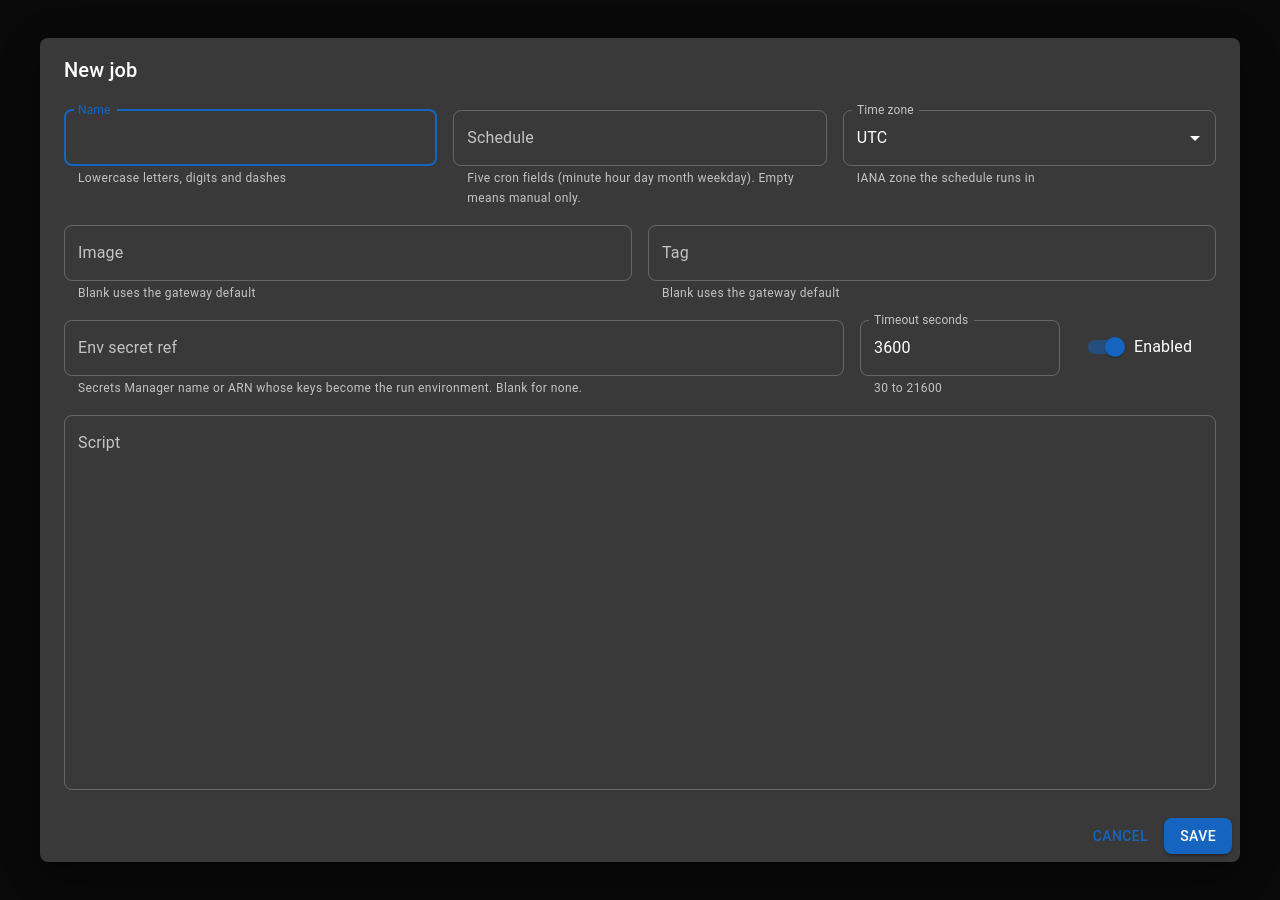
Scenario: JobFormDialog create › validates the name, the timeout and the required script
Type "Bad_Name" into the field labelled "Name" at (251, 138), box [64,110,437,166]
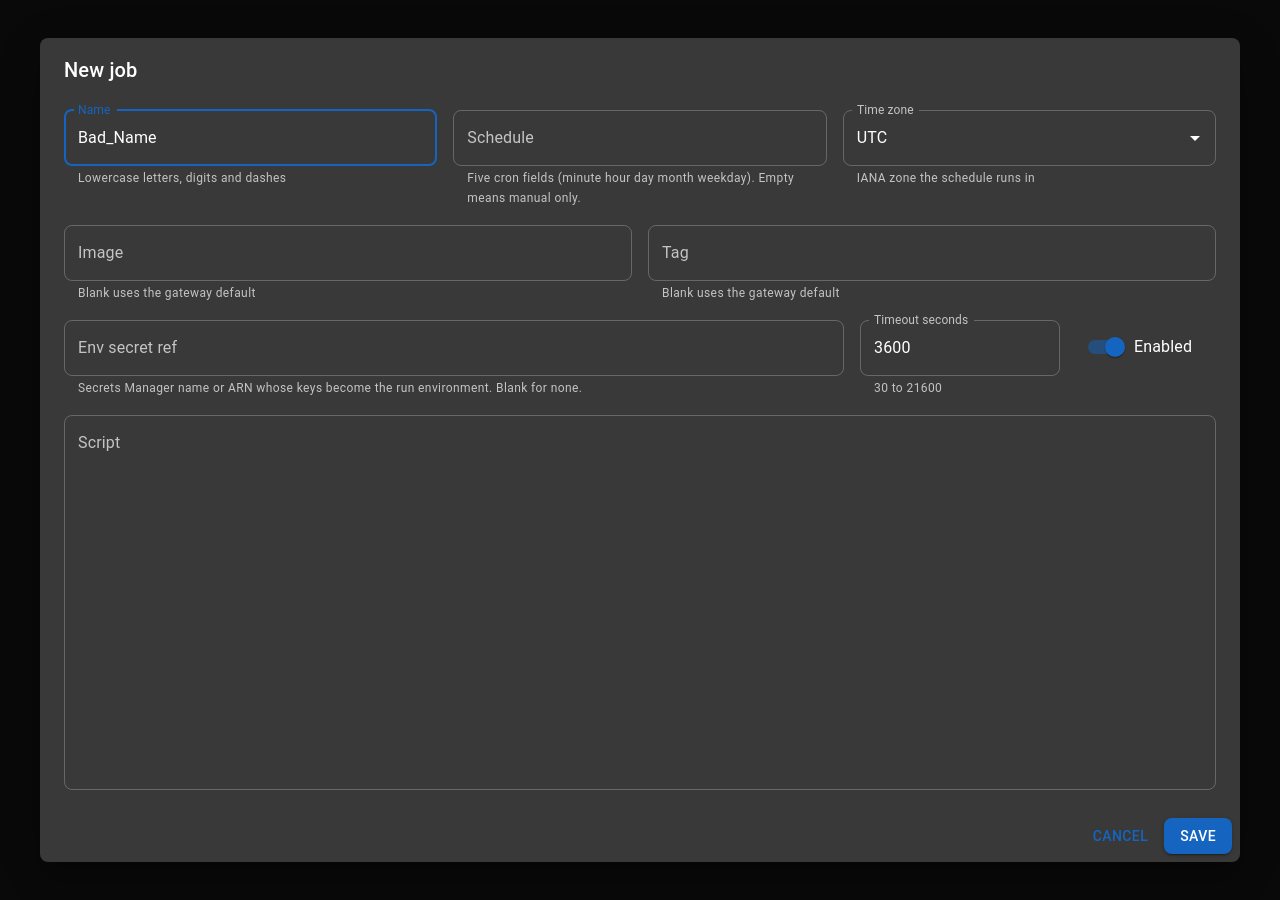
Replace the text in the number field labelled "Timeout seconds" with "10" at (960, 348), box [860,320,1060,376]
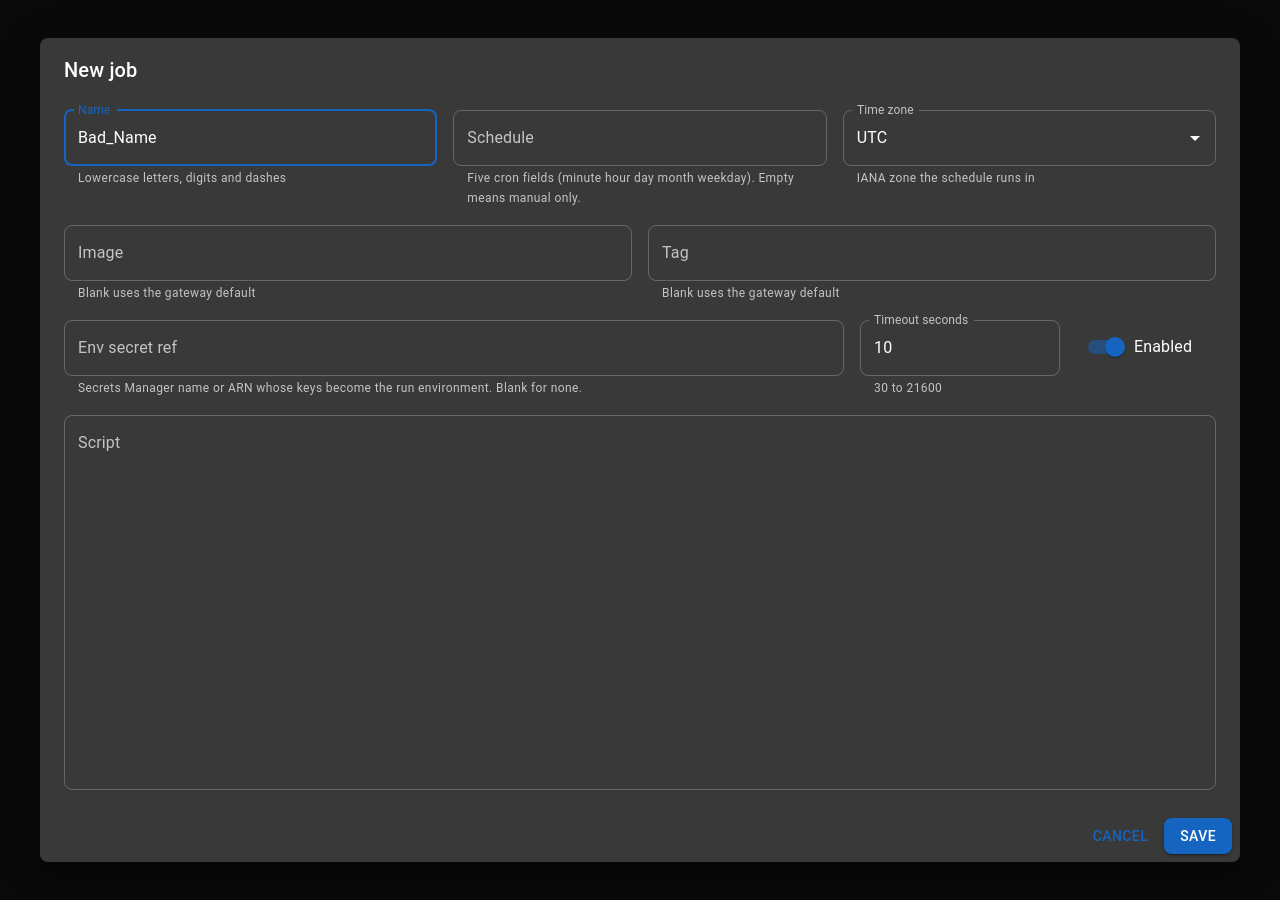
Click the button "Save" at (1198, 836), box [1164,818,1232,854]
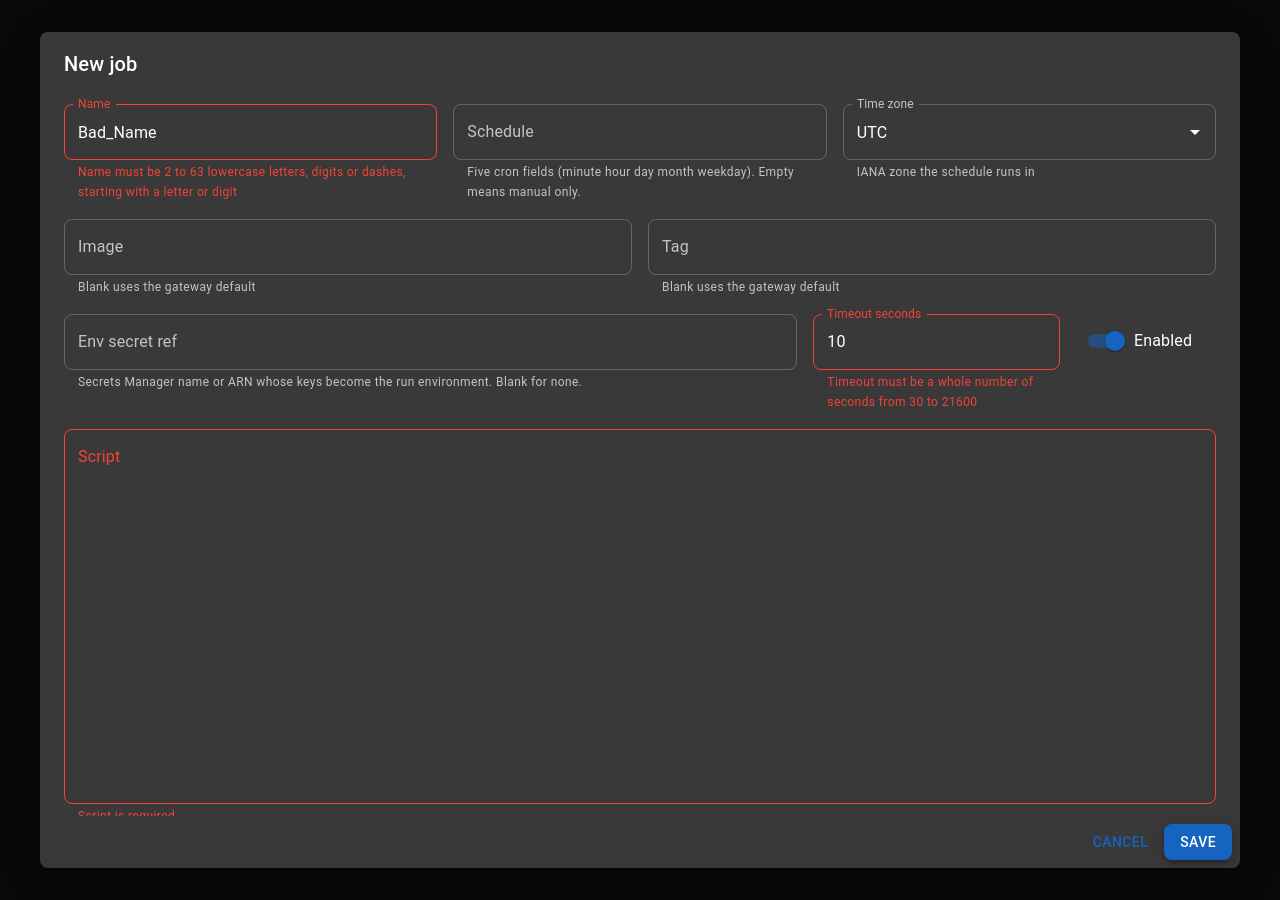
expect the text "Name must be 2 to 63 lowercase" is shown: met, box [78,165,406,199]
expect the text "Timeout must be a whole number of seconds from 30 to 21600" is shown: met, box [827,373,1046,412]
